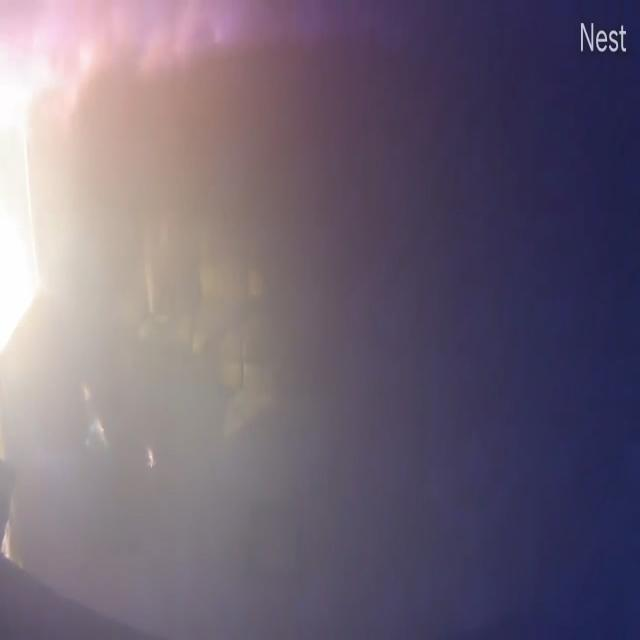Fire: (1, 0, 170, 260)
